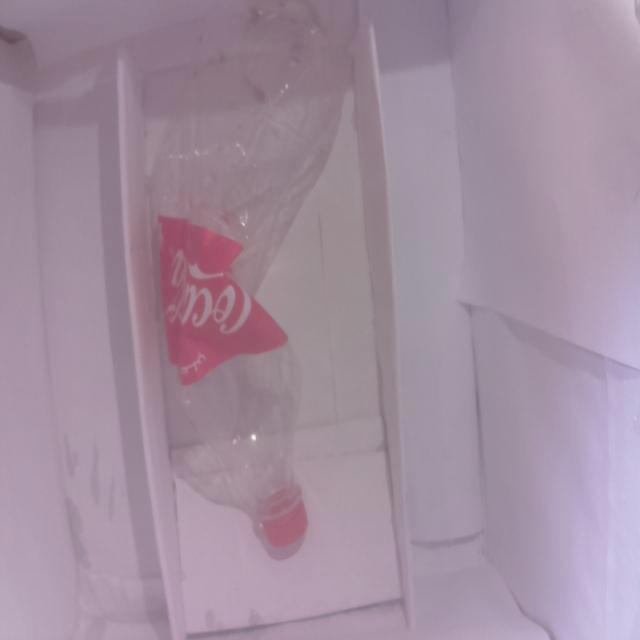bottle: (149, 0, 360, 546)
